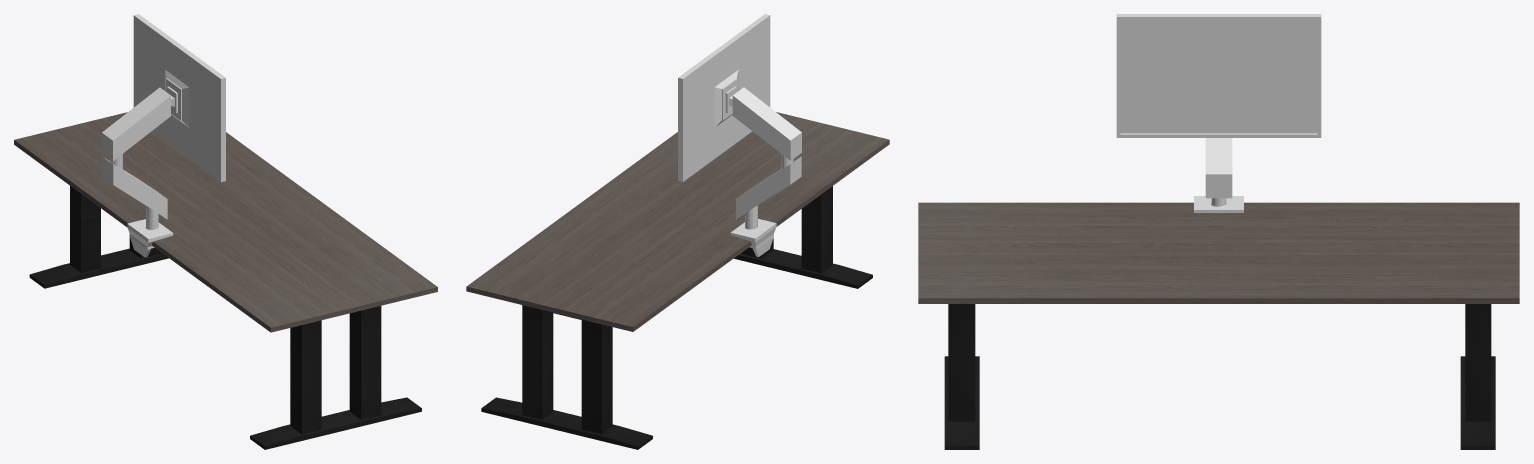
Rendered from Computer.fbx.
3 views of the same model, side by side, from view 1: azimuth 30°, elevation 25°; view 2: azimuth 150°, elevation 25°; view 3: azimuth 270°, elevation 25° (orthographic). The views are drawn at different scales.
Parts seen in each view (by area): view 1: Table, Table.001, Monitor, Table Foot, Cube.008, Cube_1, Cube.006; view 2: Table, Table.001, Monitor, Table Foot, Cube.008, Cube_1, Cube.006; view 3: Table, Screen, Table.001, Monitor, Table Foot, Cube_1, Cube.006.
Boxes of the visible parts, x1,y1,x2,y2 form: Table: (14, 112, 437, 332); Table.001: (70, 186, 381, 434); Monitor: (133, 14, 225, 182); Table Foot: (29, 248, 421, 449); Cube.008: (102, 87, 170, 160); Cube_1: (102, 156, 167, 219); Cube.006: (127, 219, 173, 257); Table: (466, 112, 889, 331); Table.001: (522, 186, 832, 434); Monitor: (678, 14, 770, 181); Table Foot: (481, 249, 872, 449); Cube.008: (732, 87, 801, 160); Cube_1: (736, 156, 801, 219); Cube.006: (730, 218, 776, 257); Table: (918, 202, 1519, 303); Screen: (1120, 20, 1317, 133); Table.001: (948, 304, 1491, 421); Monitor: (1116, 14, 1321, 137); Table Foot: (944, 356, 1495, 449); Cube_1: (1205, 138, 1232, 198); Cube.006: (1194, 196, 1243, 212).
Size of the model in its own units: 90.83 by 133 by 200.
2 materials, 2 textured.
